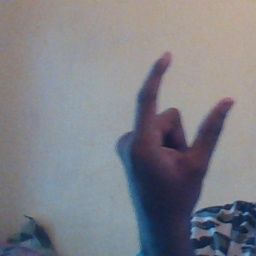U: (114, 50, 240, 197)
